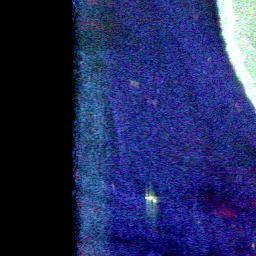Ship: (146, 193, 158, 203)
